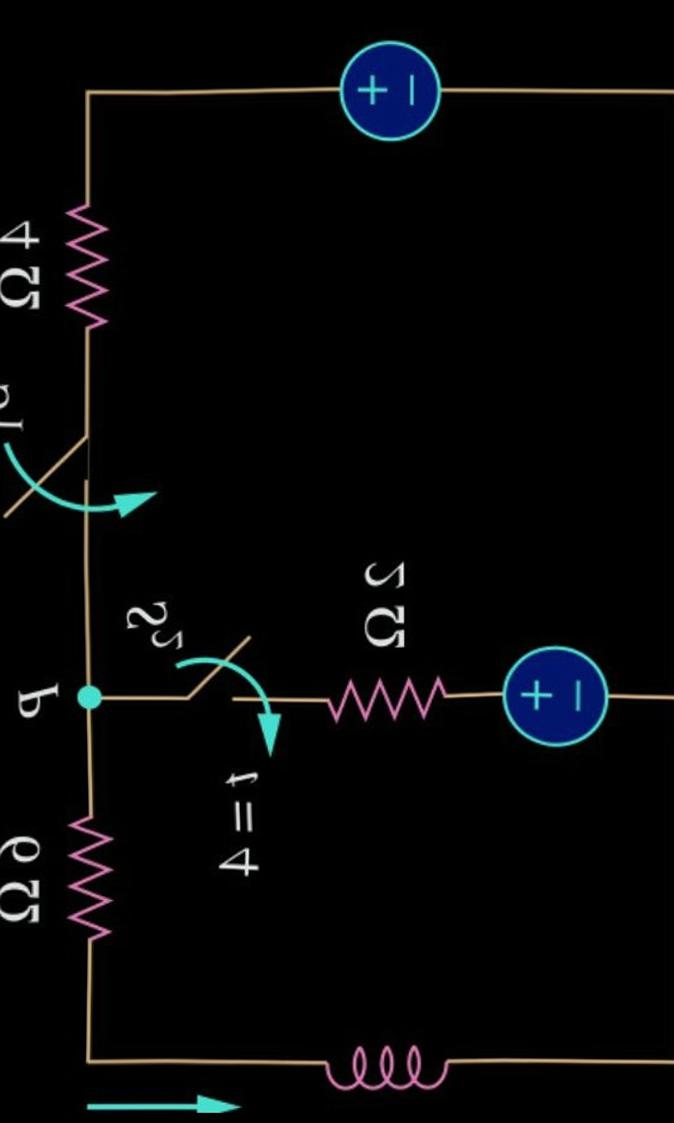Battery: (281, 9, 488, 189), (461, 617, 631, 772)
